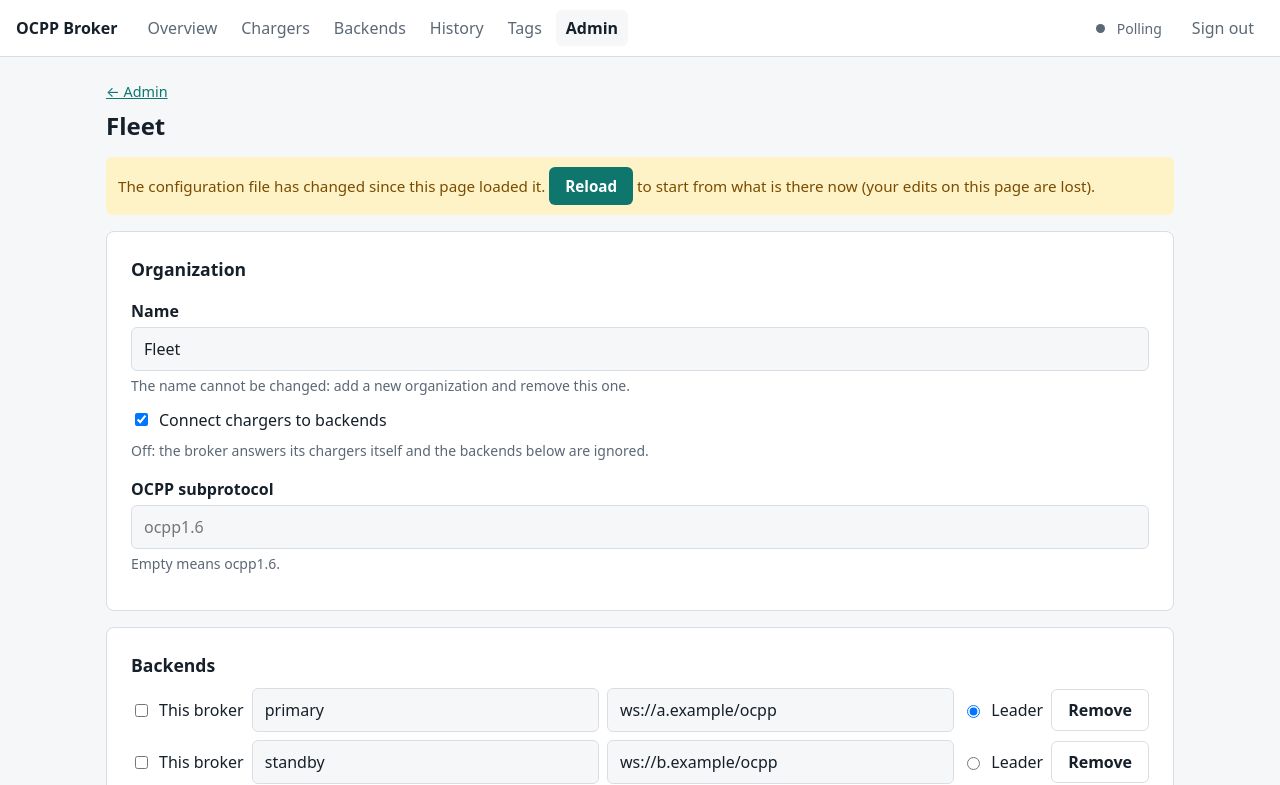
Test: changing an organization › tells the reader the file changed while the page was open
Expected: the text "The configuration file has changed since this page loaded it" is shown, x1=118 y1=176 x2=549 y2=196
Step 1. Click the button "Reload" → (591, 186), box x1=549 y1=167 x2=633 y2=205
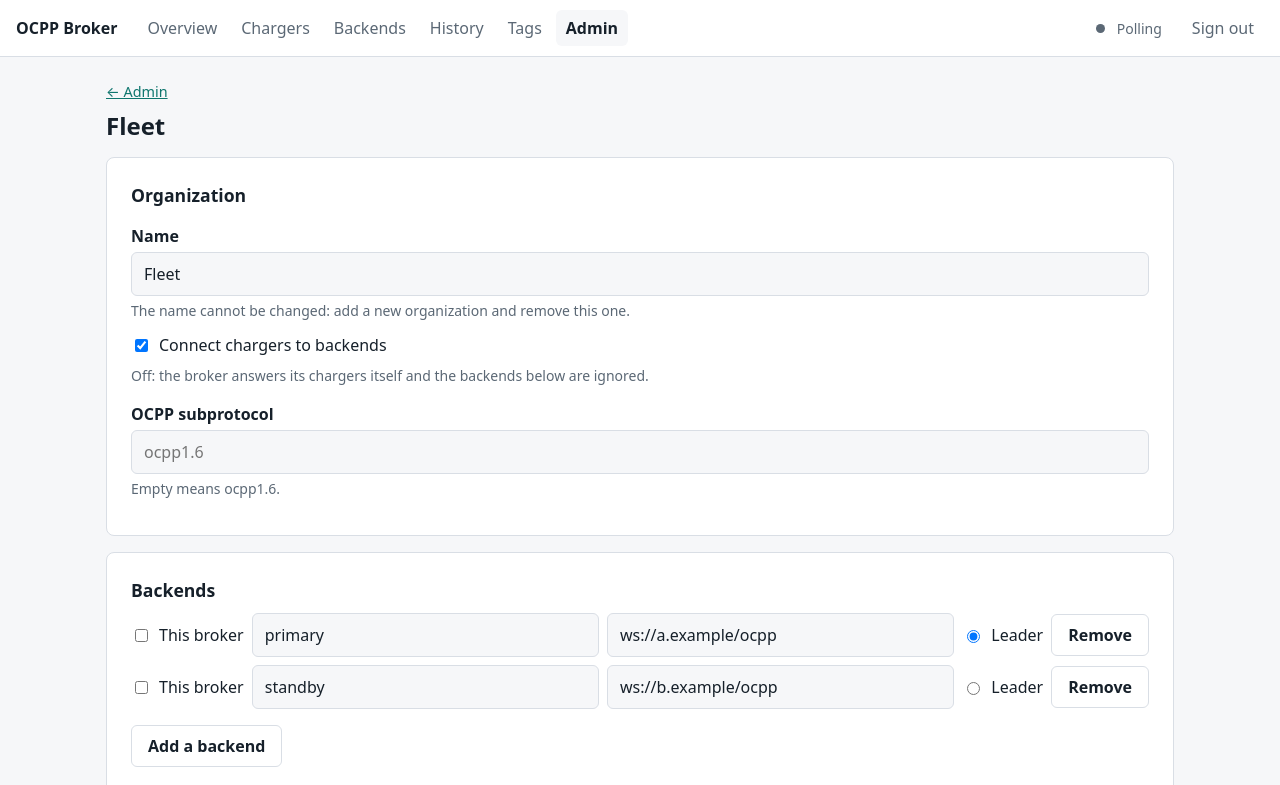
Expected: the text "has changed since this page loaded it" is gone
